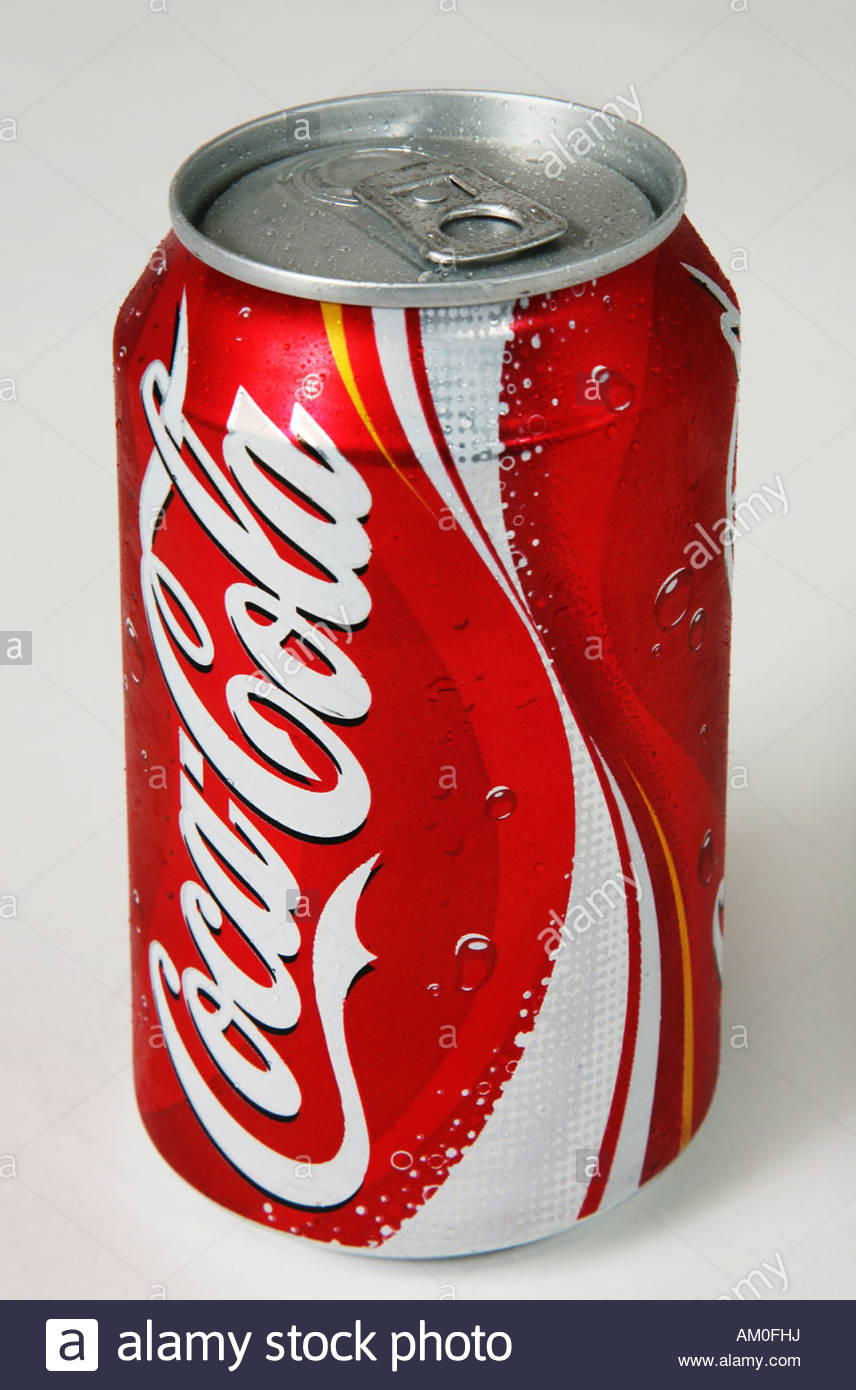can: (103, 85, 762, 1268)
